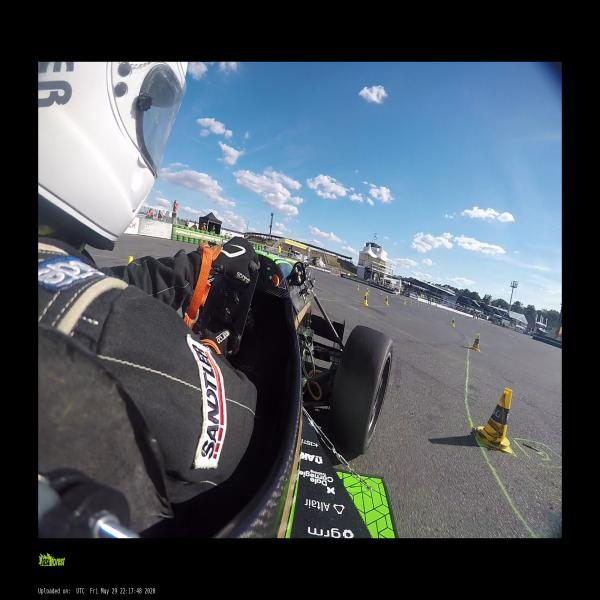yellow_cone: (477, 386, 518, 450), (470, 334, 480, 352), (361, 293, 368, 306), (451, 318, 455, 327), (384, 296, 388, 305), (356, 284, 360, 290), (365, 288, 368, 294), (367, 287, 370, 293), (380, 291, 383, 295), (404, 300, 406, 304), (410, 301, 412, 305), (420, 302, 422, 306), (427, 306, 429, 309), (418, 302, 419, 306)
